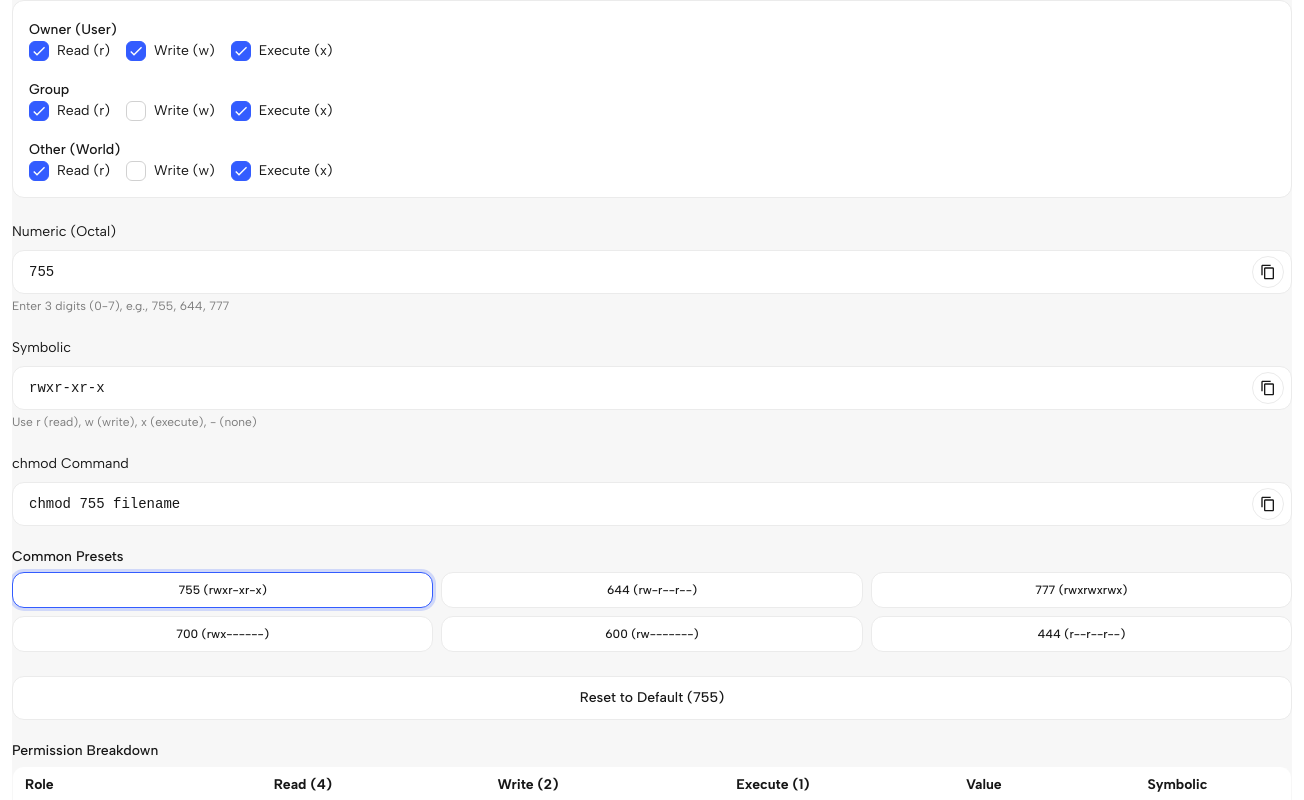
ChmodCalculatorTool › resets to default when reset button is clicked
The width and height of the screenshot is (1304, 800).
Type "777" into the field with placeholder "755" below "Numeric (Octal)" at point(652, 272), box 12,250 -> 1292,294
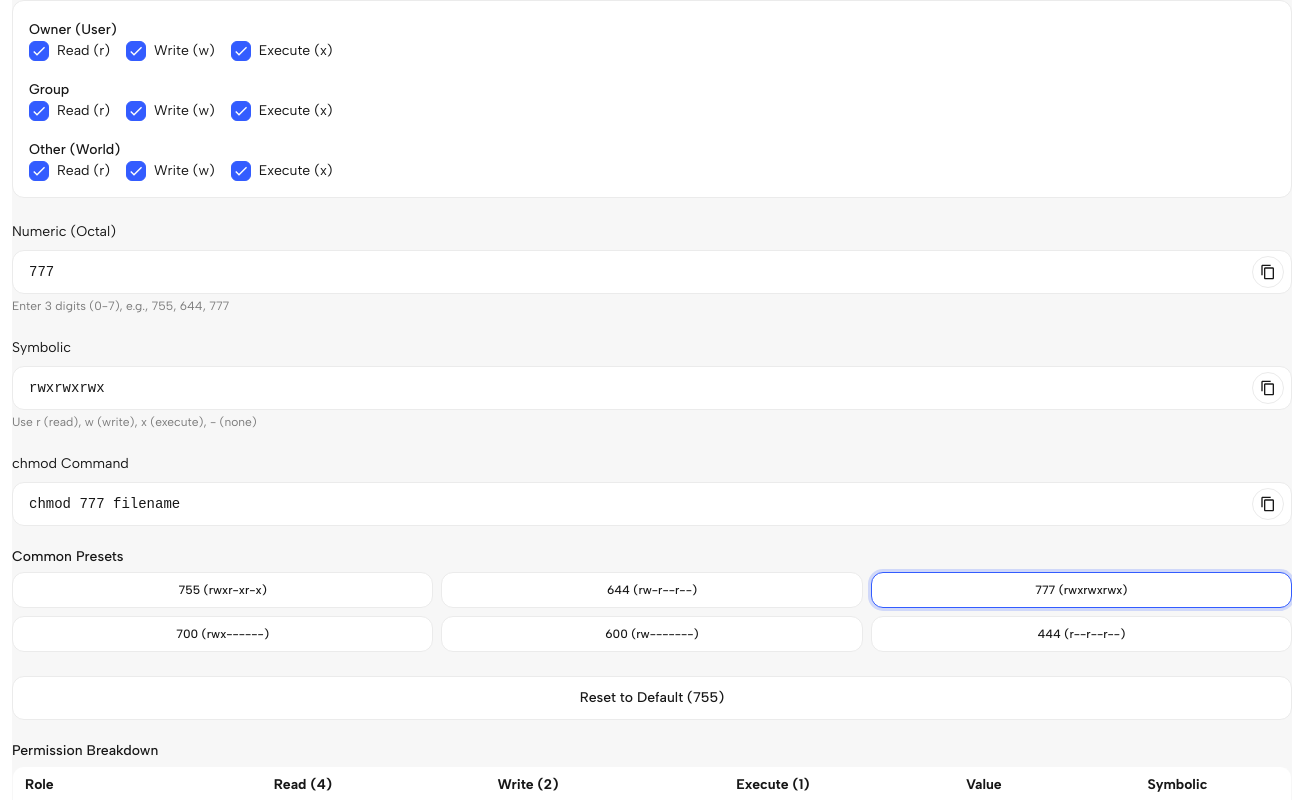
Click the button "Reset to Default (755)" at point(652, 698), box 12,676 -> 1292,720
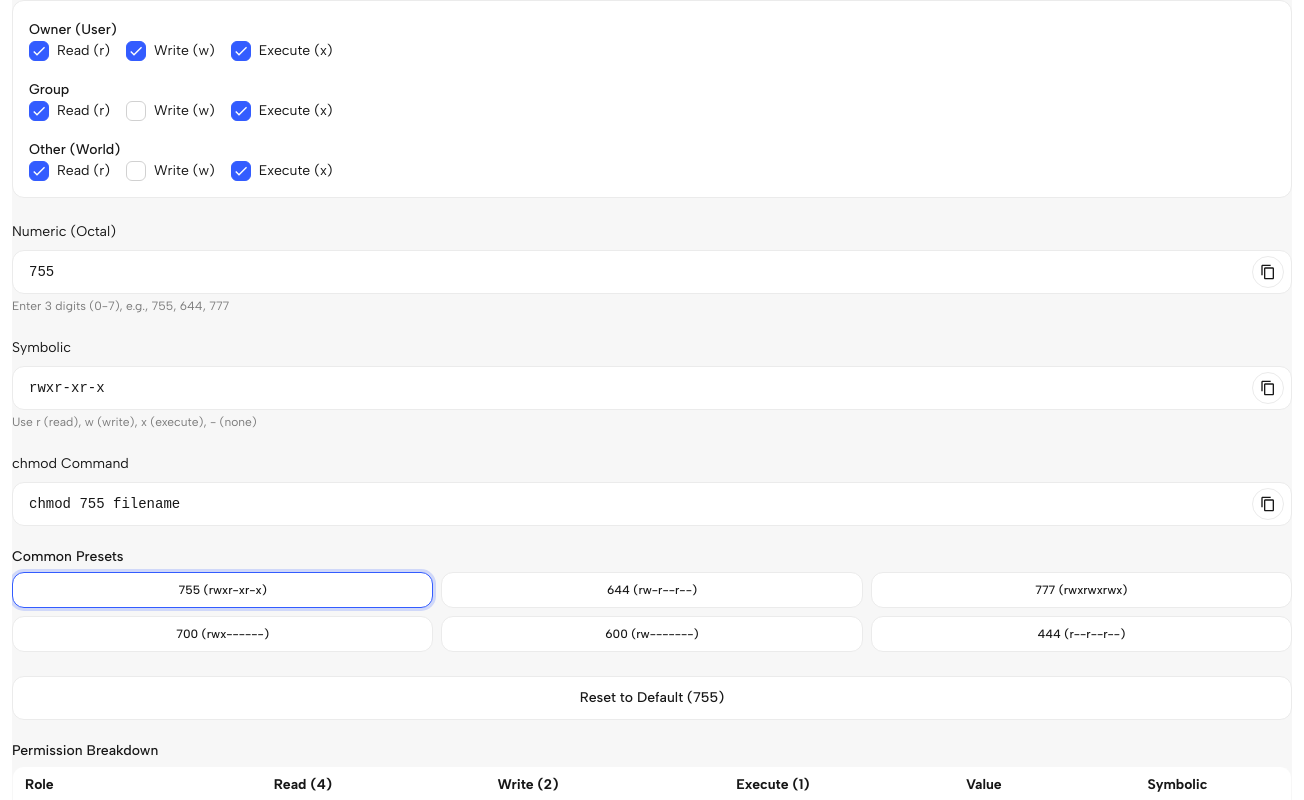
Expected: the field with placeholder "755" below "Numeric (Octal)" holds "755", 12,250 -> 1292,294
